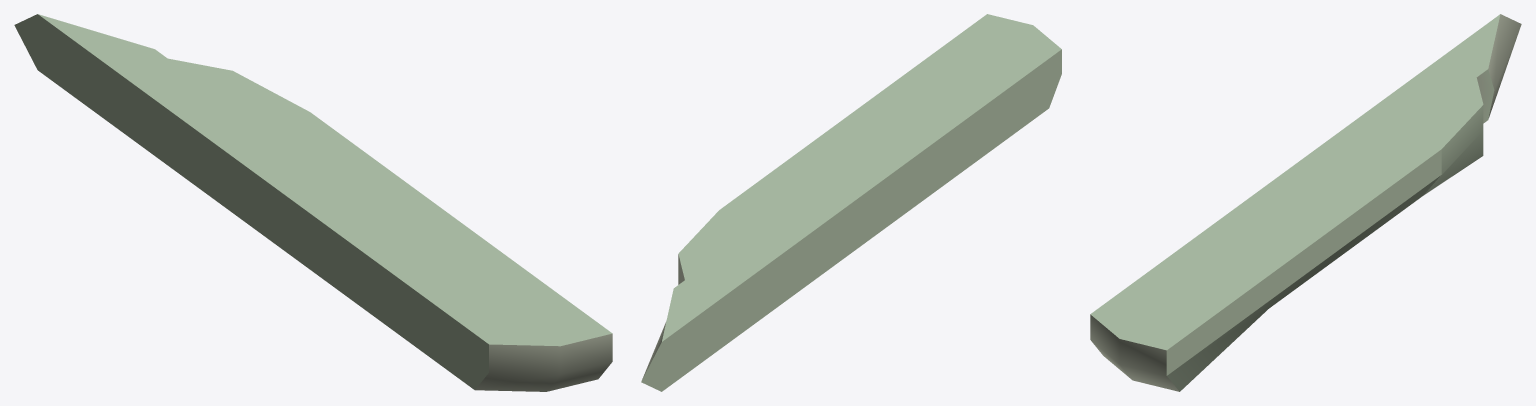
The model's file is geology-crystals-crystalshard_v4.glb.
3 renders of one model, left to right at view 1: azimuth 30°, elevation 25°; view 2: azimuth 150°, elevation 25°; view 3: azimuth 330°, elevation 25°, orthographic. The views are drawn at different scales.
Visible parts, largest first — view 1: CrystalShard_v4; view 2: CrystalShard_v4; view 3: CrystalShard_v4.
Part boxes in pixels (x1=…): CrystalShard_v4: x1=14, y1=14, x2=612, y2=391; CrystalShard_v4: x1=641, y1=14, x2=1061, y2=391; CrystalShard_v4: x1=1090, y1=14, x2=1521, y2=391.
Bounding box in the file's own units: 1.29 × 0.6656 × 10.61.
